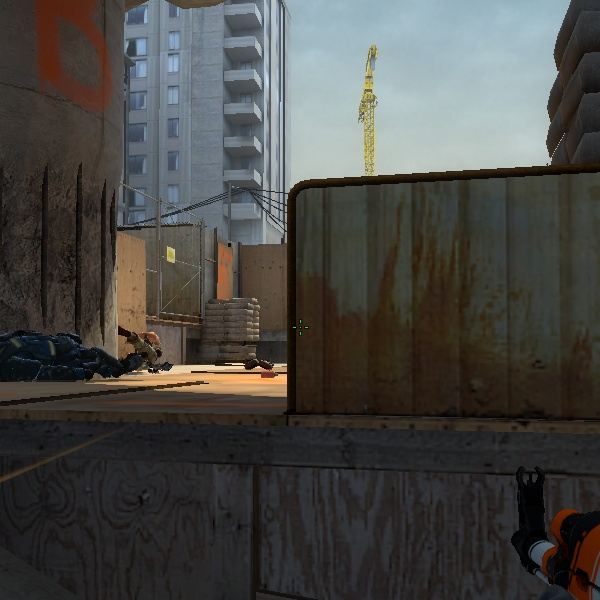t_body: (129, 327, 162, 368)
